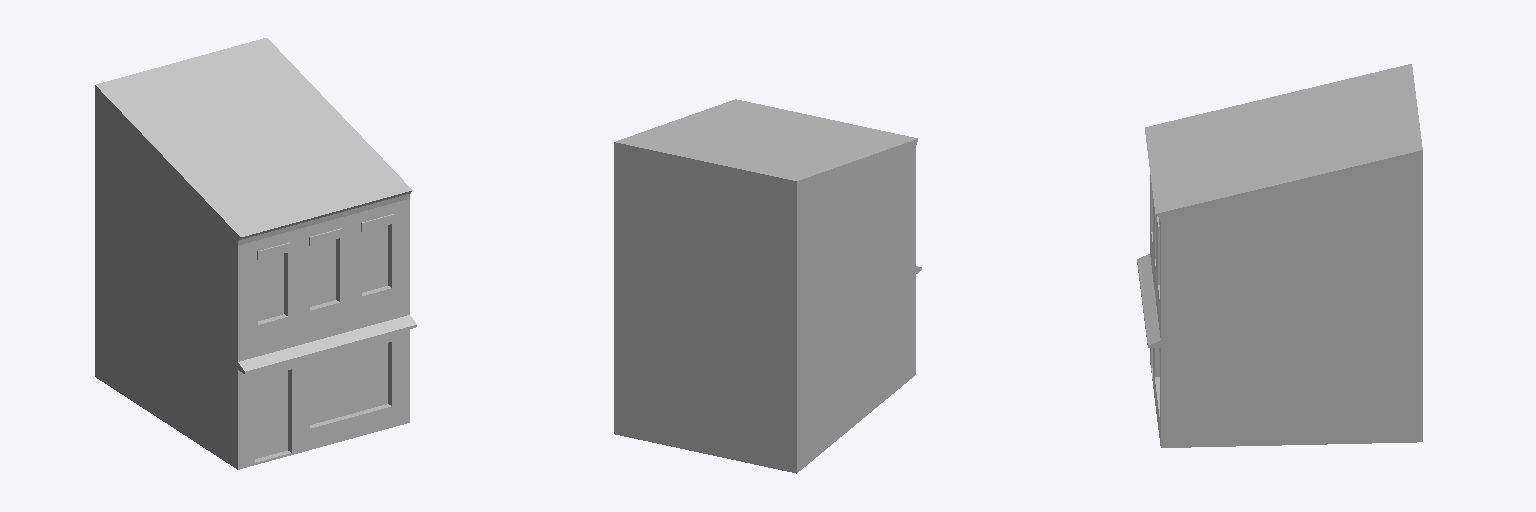
File: house13.obj
3 views of the same model, side by side, from view 1: azimuth 30°, elevation 25°; view 2: azimuth 150°, elevation 25°; view 3: azimuth 270°, elevation 25° (orthographic).
Parts seen in each view (by area): view 1: pasted__pasted__pasted__houseShop_null_ pasted__pasted__group8 p; view 2: pasted__pasted__pasted__houseShop_null_ pasted__pasted__group8 p; view 3: pasted__pasted__pasted__houseShop_null_ pasted__pasted__group8 p.
Part boxes in pixels (bbox=[...]): pasted__pasted__pasted__houseShop_null_ pasted__pasted__group8 p: bbox=[95, 38, 416, 469]; pasted__pasted__pasted__houseShop_null_ pasted__pasted__group8 p: bbox=[614, 99, 921, 473]; pasted__pasted__pasted__houseShop_null_ pasted__pasted__group8 p: bbox=[1137, 64, 1422, 447].
Size of the model in its own units: 33.51 by 49.27 by 43.65.